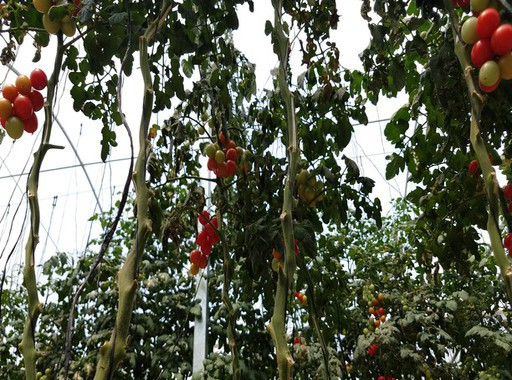green tomato bunch: (32, 1, 79, 37), (288, 171, 323, 206), (271, 240, 301, 275)
mixed tomato bunch: (460, 4, 512, 91), (359, 283, 391, 340)
red tomato bunch: (1, 67, 46, 141), (190, 212, 225, 272), (208, 133, 238, 178)
